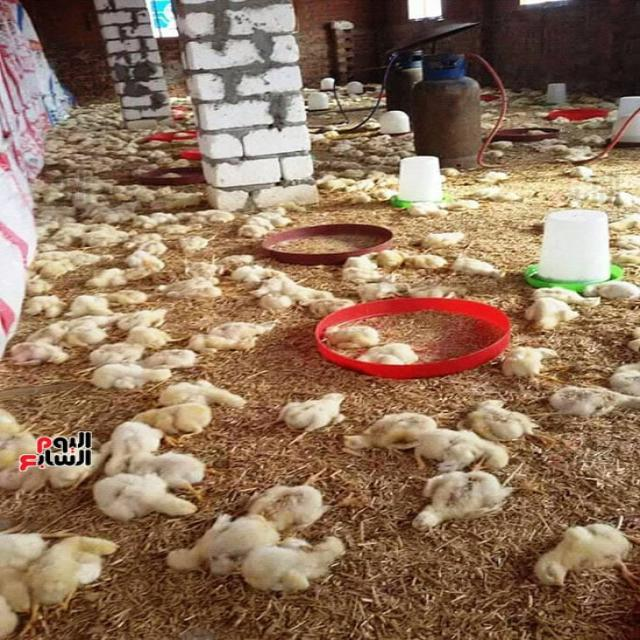Unhealthy: (516, 510, 640, 600), (403, 468, 527, 546), (259, 384, 350, 444)
